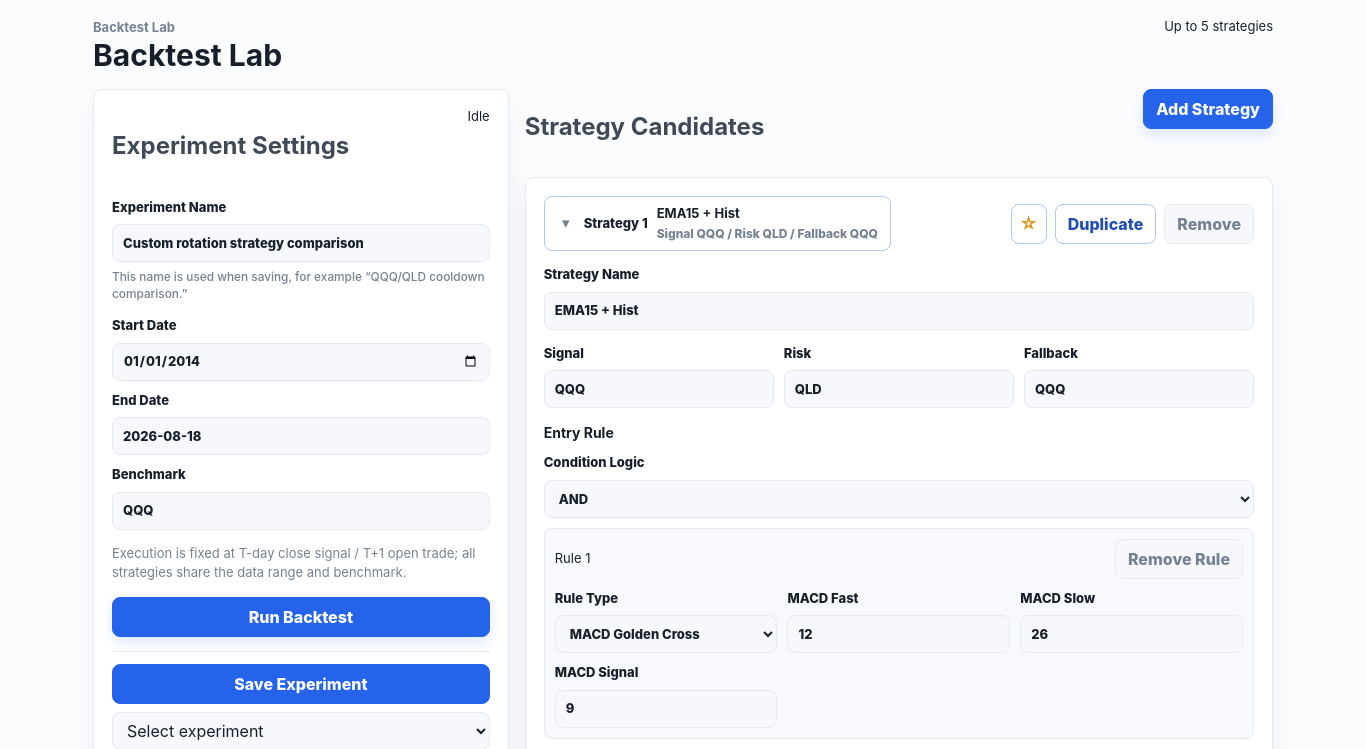
BacktestLabPage › collapses strategy cards without changing the backtest payload
Click the button with aria-label "Collapse": (717, 224) x1=544 y1=196 x2=891 y2=251
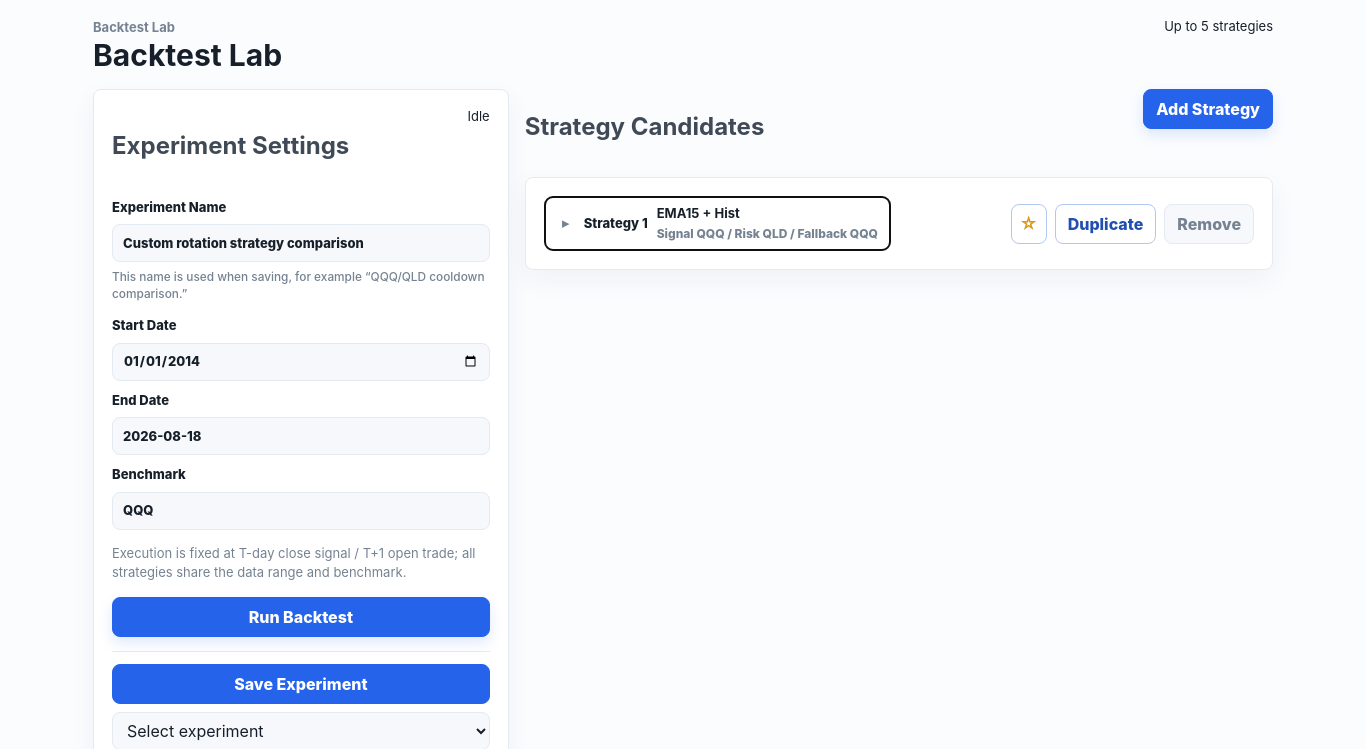
Expected: the text "EMA15 + Hist" is shown, x1=657 y1=205 x2=740 y2=221
Expected: the button with aria-label "Expand" is collapsed, x1=544 y1=196 x2=891 y2=251
Expected: the label labelled "Strategy Name" is gone
Click the button "Run Backtest": (301, 617) x1=112 y1=597 x2=490 y2=637
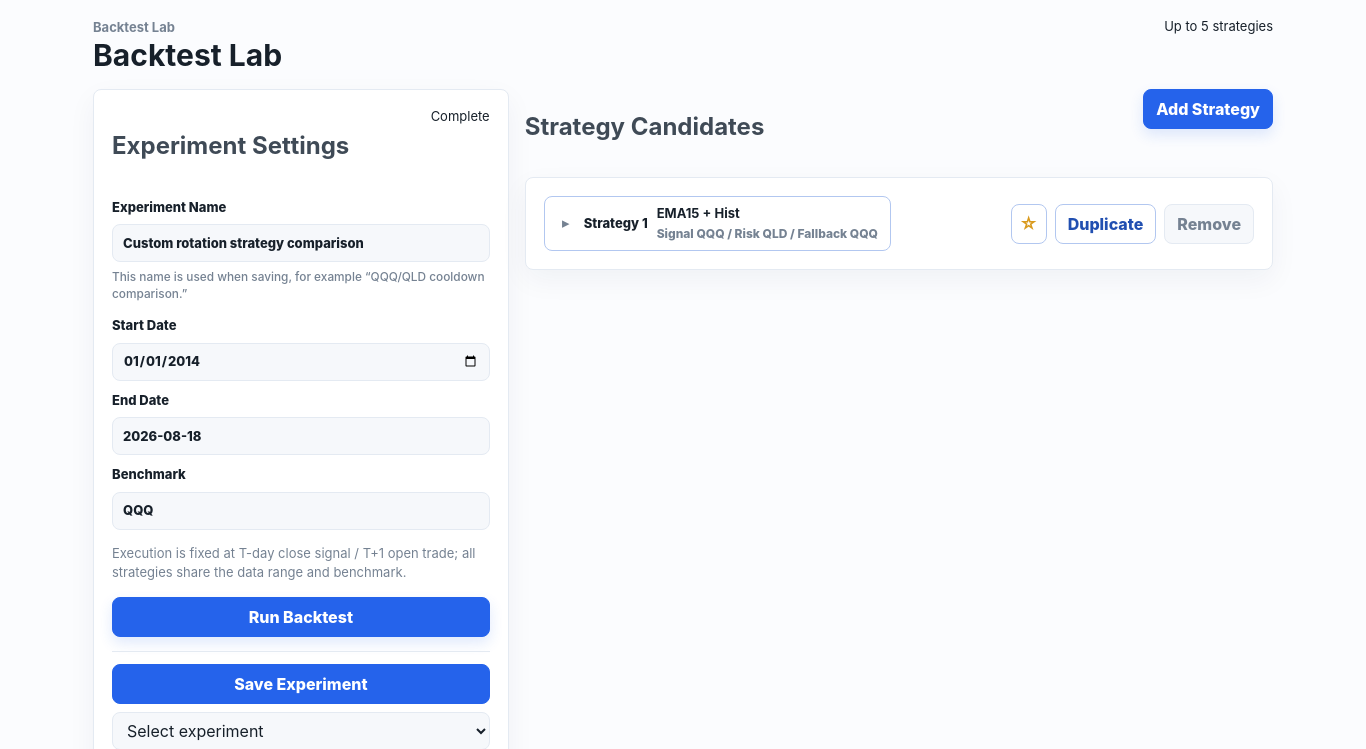
Expected: the text "EMA15 + Hist" is shown, x1=657 y1=205 x2=740 y2=221
Click the button with aria-label "Expand": (717, 224) x1=544 y1=196 x2=891 y2=251
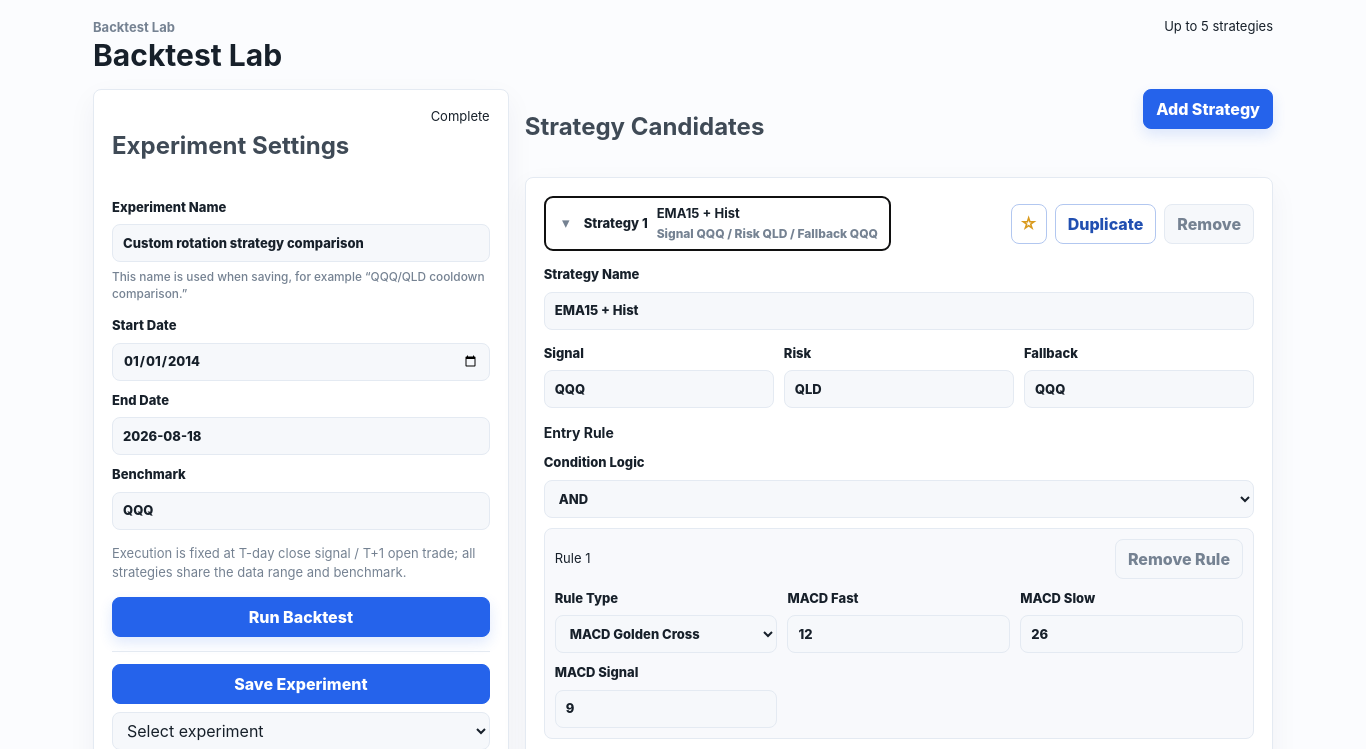
Expected: the field labelled "Strategy Name" holds "EMA15 + Hist", x1=544 y1=292 x2=1254 y2=330
